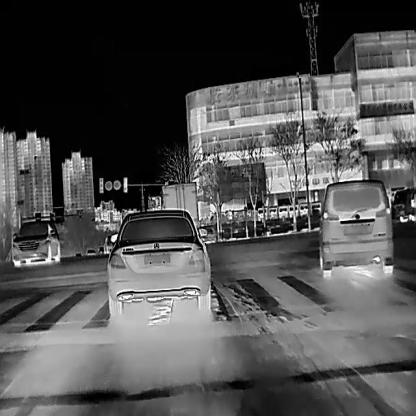car: (105, 209, 211, 314), (318, 178, 393, 278), (11, 220, 61, 266)
truck: (159, 179, 198, 235), (392, 186, 416, 223)
